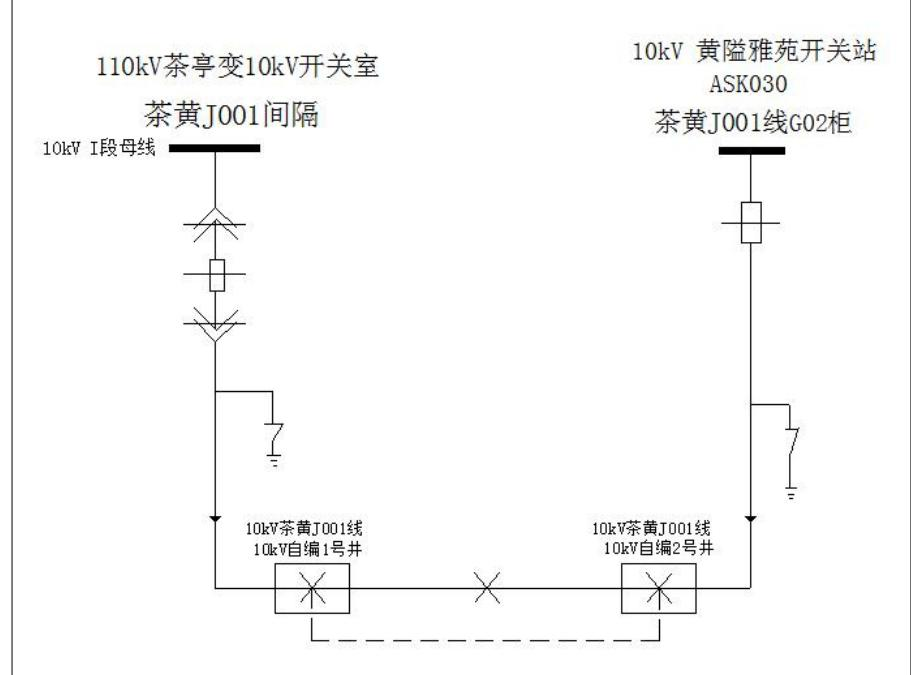t19: (167, 195, 261, 362)
t20: (438, 560, 540, 622)
t26: (258, 553, 365, 627), (609, 552, 711, 625)
t28: (778, 411, 810, 471), (250, 410, 290, 447)
t7: (717, 189, 793, 267)
t8: (774, 471, 802, 506), (259, 442, 288, 474)
